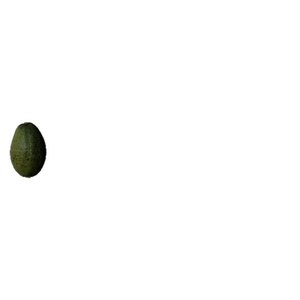abacate: (8, 122, 49, 179)
